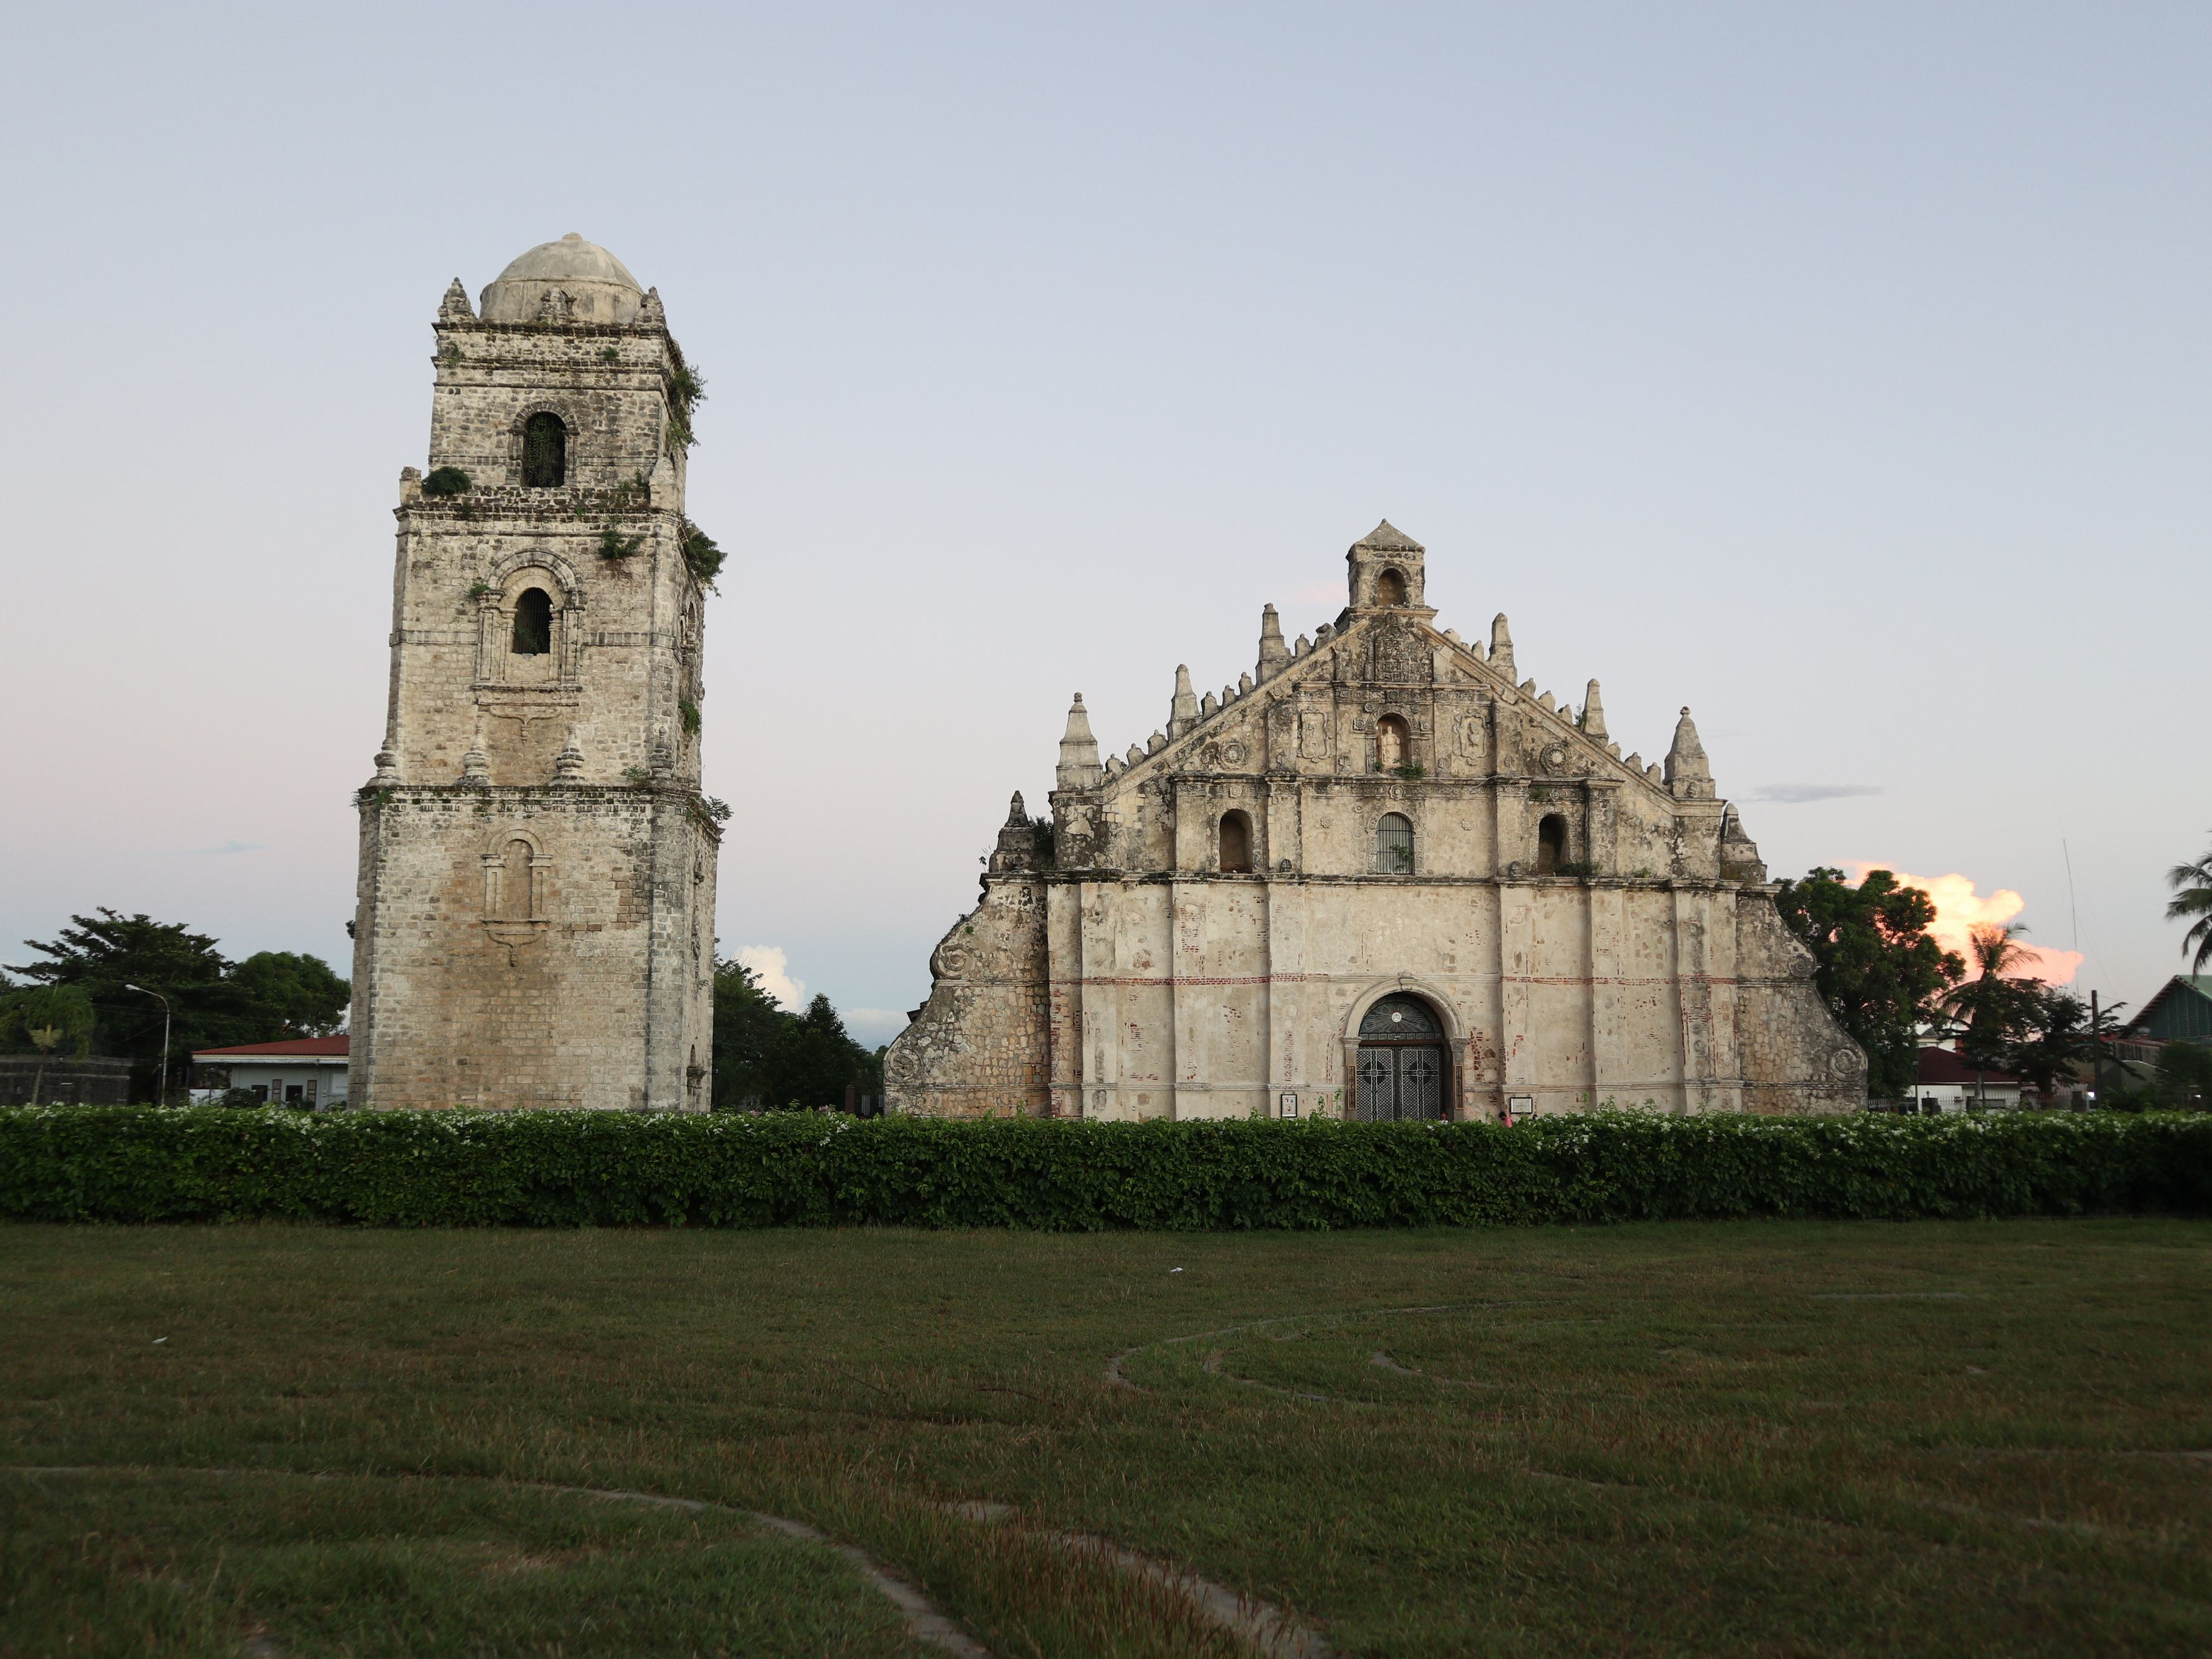Environmental Damage: (655, 347, 709, 469), (667, 518, 737, 601), (408, 465, 495, 507), (592, 521, 643, 582)
Paoay Church: (376, 225, 1881, 1143)
